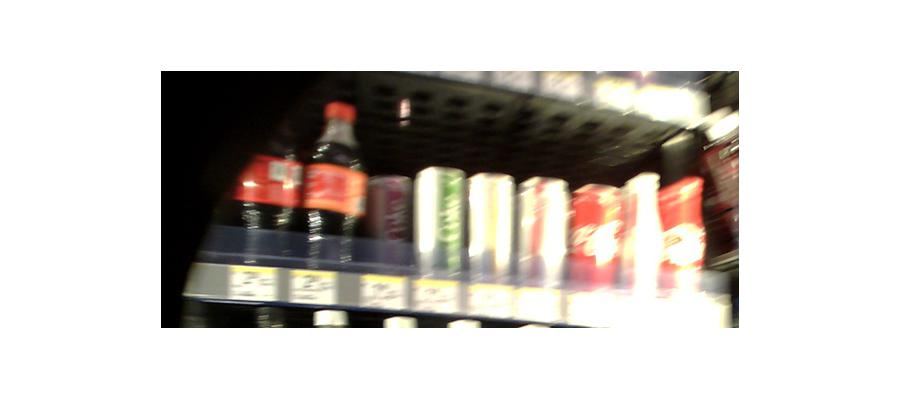bottle: (305, 99, 361, 266), (243, 104, 297, 272), (518, 173, 569, 296), (571, 181, 626, 294), (659, 175, 705, 299), (470, 170, 517, 288), (416, 168, 466, 278), (621, 172, 662, 297), (365, 169, 410, 262)
